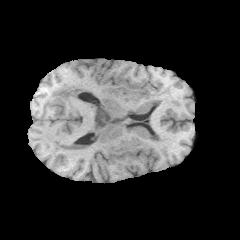glioma: (43, 82, 176, 171)
